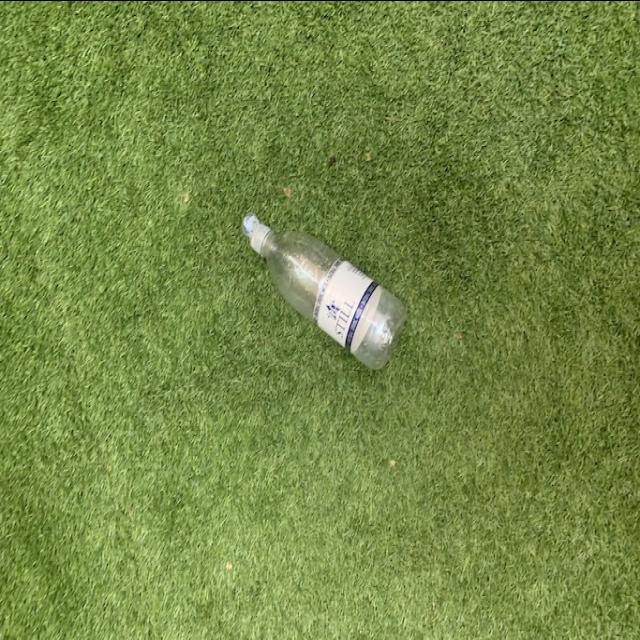litter: (246, 214, 414, 372)
